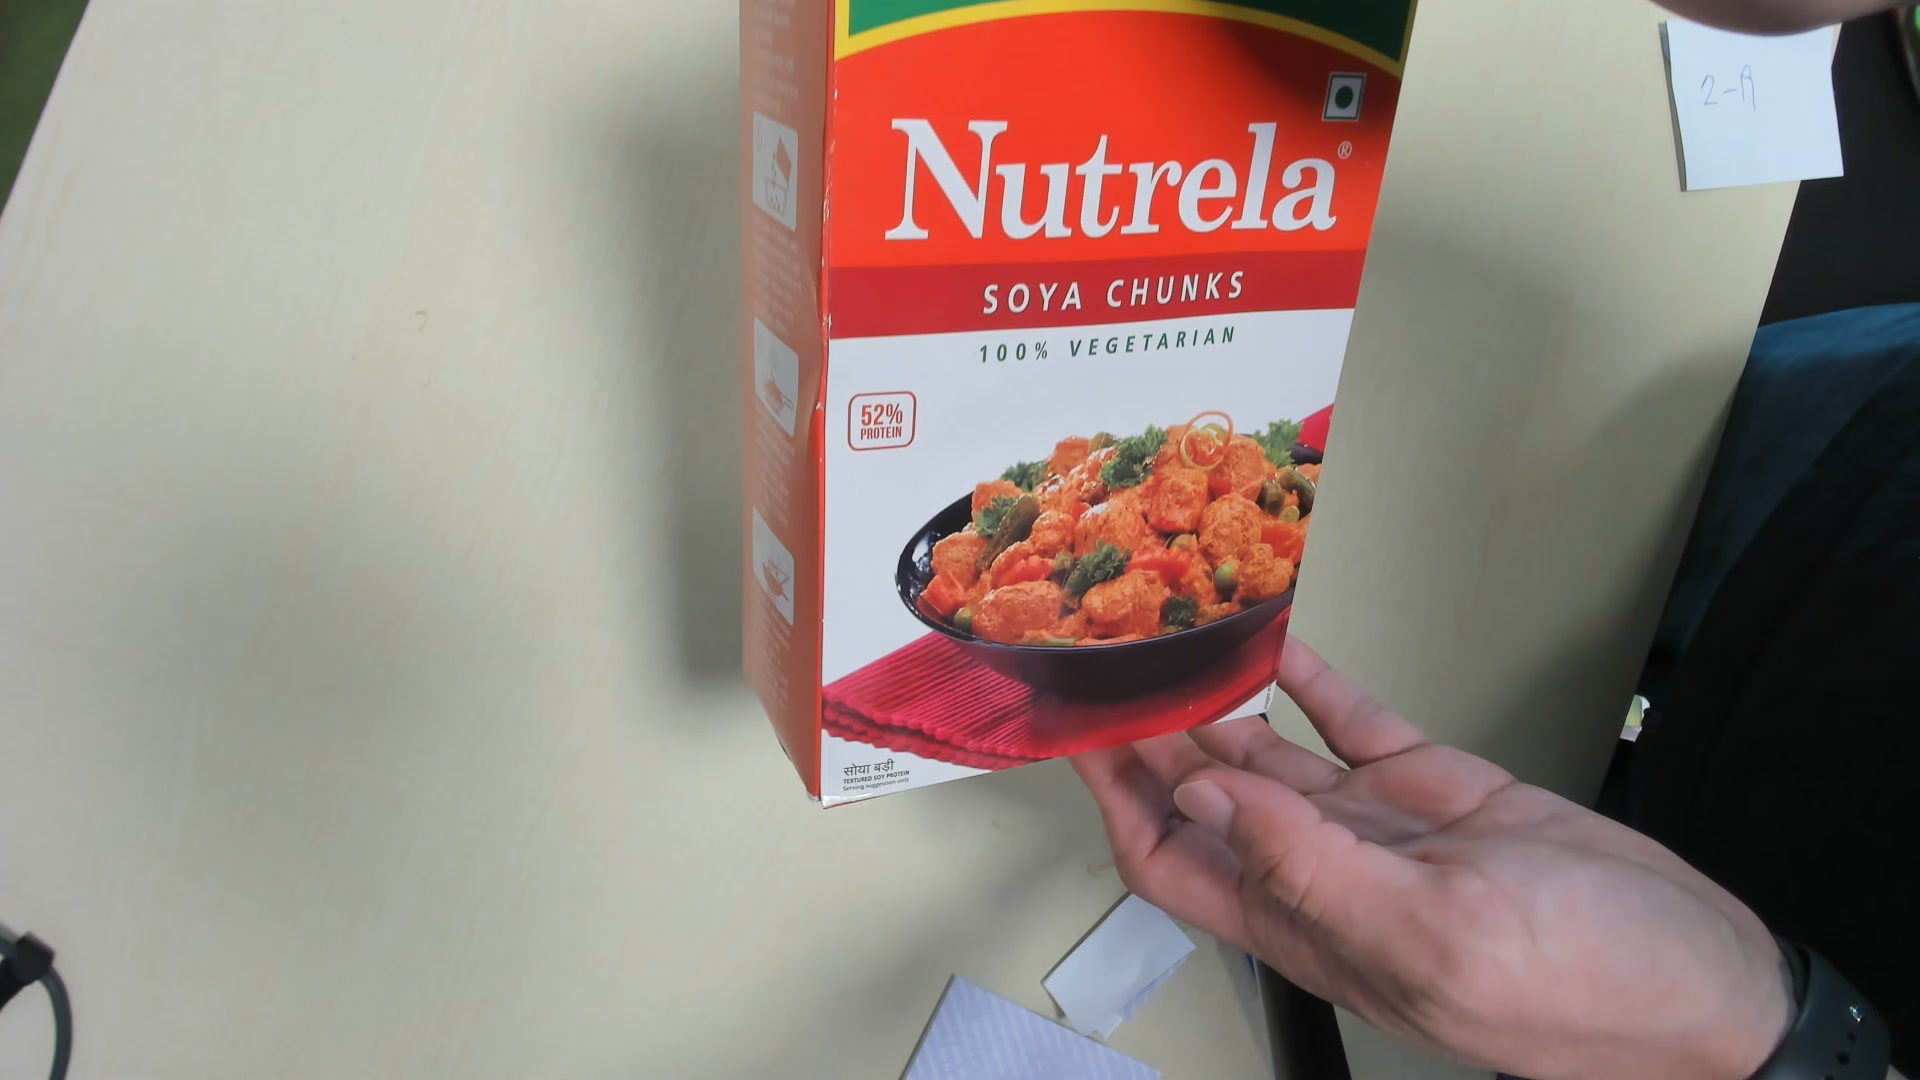InstantMeals_200_299g_NonHalal_NonHealthy: (735, 5, 1415, 804)
